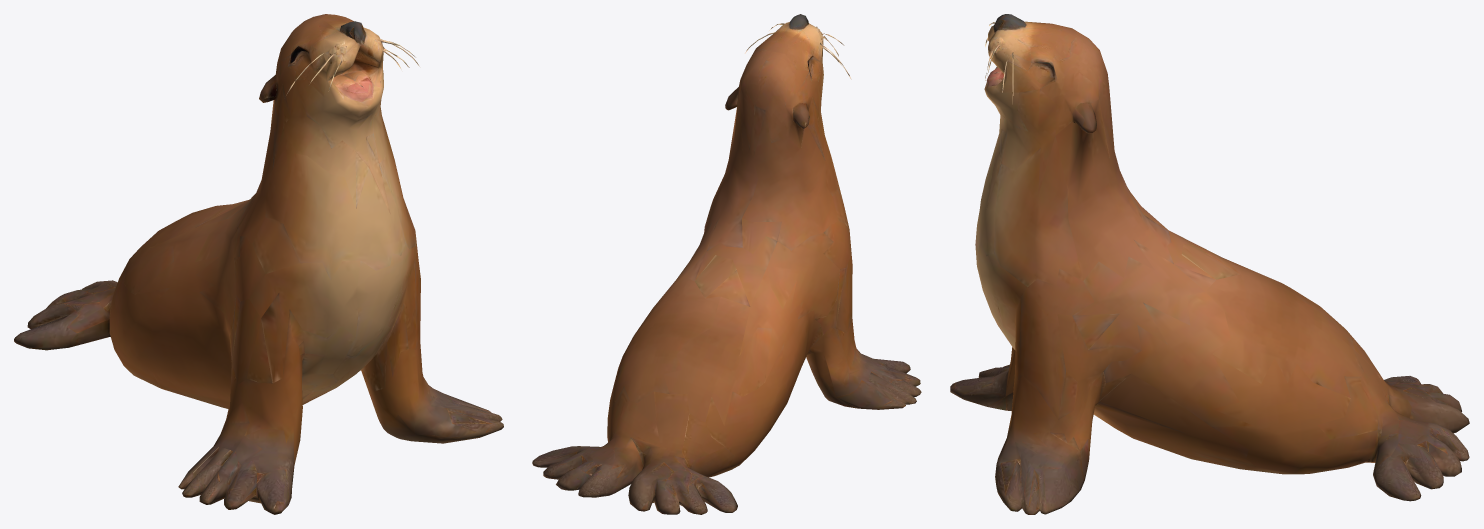
Rendered from sea-lion-bark.glb.
3 renders of one model, left to right at view 1: azimuth 30°, elevation 25°; view 2: azimuth 150°, elevation 25°; view 3: azimuth 270°, elevation 25°, orthographic. The views are drawn at different scales.
Parts seen in each view (by area): view 1: sea-lion-bark; view 2: sea-lion-bark; view 3: sea-lion-bark.
Part boxes in pixels (left/top/right/bottom): sea-lion-bark: left=14, top=14, right=503, bottom=514; sea-lion-bark: left=532, top=14, right=921, bottom=514; sea-lion-bark: left=950, top=14, right=1469, bottom=514.
Size of the model in its own units: 0.7891 by 1.05 by 1.16.
Materials: 1 (1 with a texture image).
